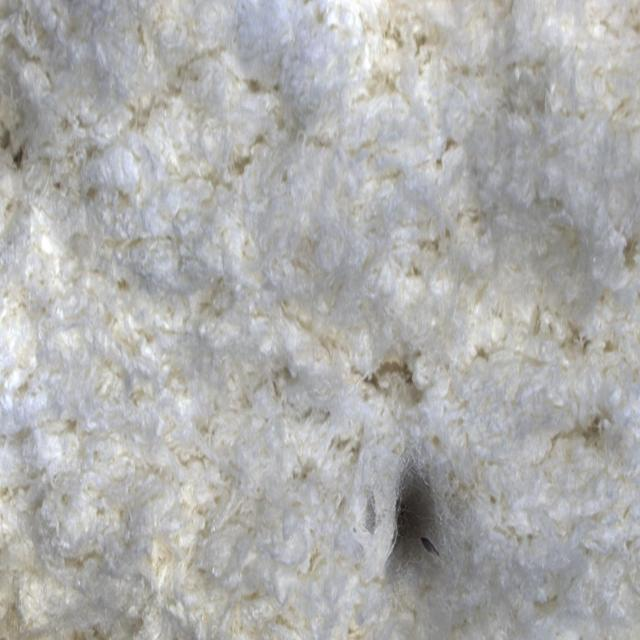dust: (334, 406, 510, 626)
